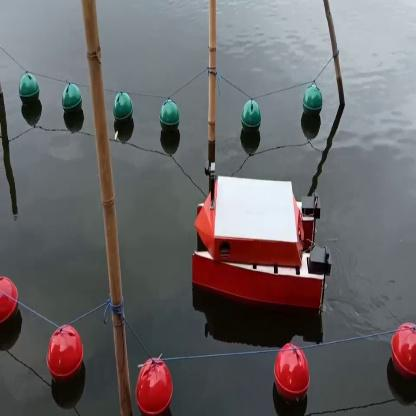green_buoy: (18, 73, 40, 115), (302, 86, 326, 122), (63, 82, 80, 124), (113, 94, 132, 130), (162, 101, 178, 138), (243, 98, 258, 134)
red_buoy: (47, 327, 85, 387), (276, 344, 312, 404), (386, 323, 415, 378), (138, 358, 169, 408), (0, 276, 19, 327)
